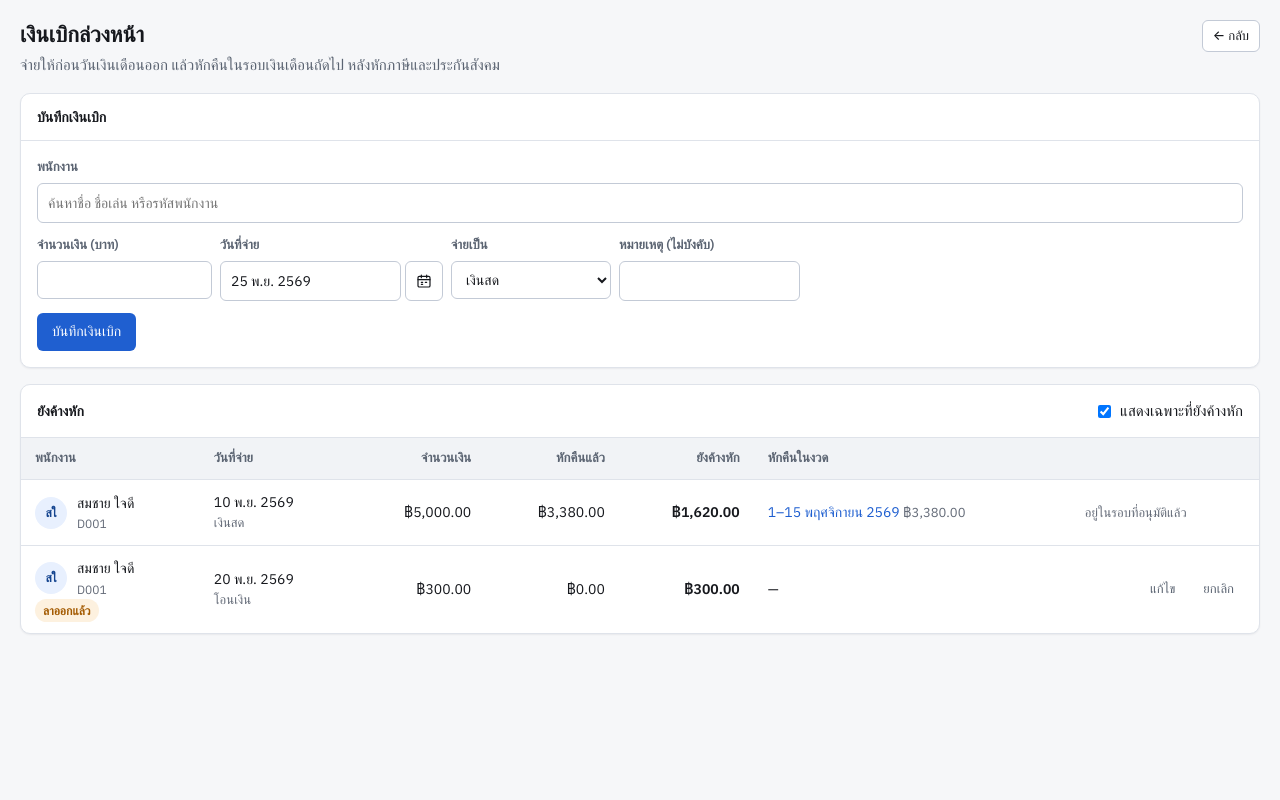
Scenario: Cash advances (CW-070) › records an advance for a person found by name
Type "สมชาย" into the search field with placeholder "ค้นหาชื่อ ชื่อเล่น หรือรหัสพนักงาน".
click(640, 203); type("สมชาย")  # box left=37, top=183, right=1243, bottom=223
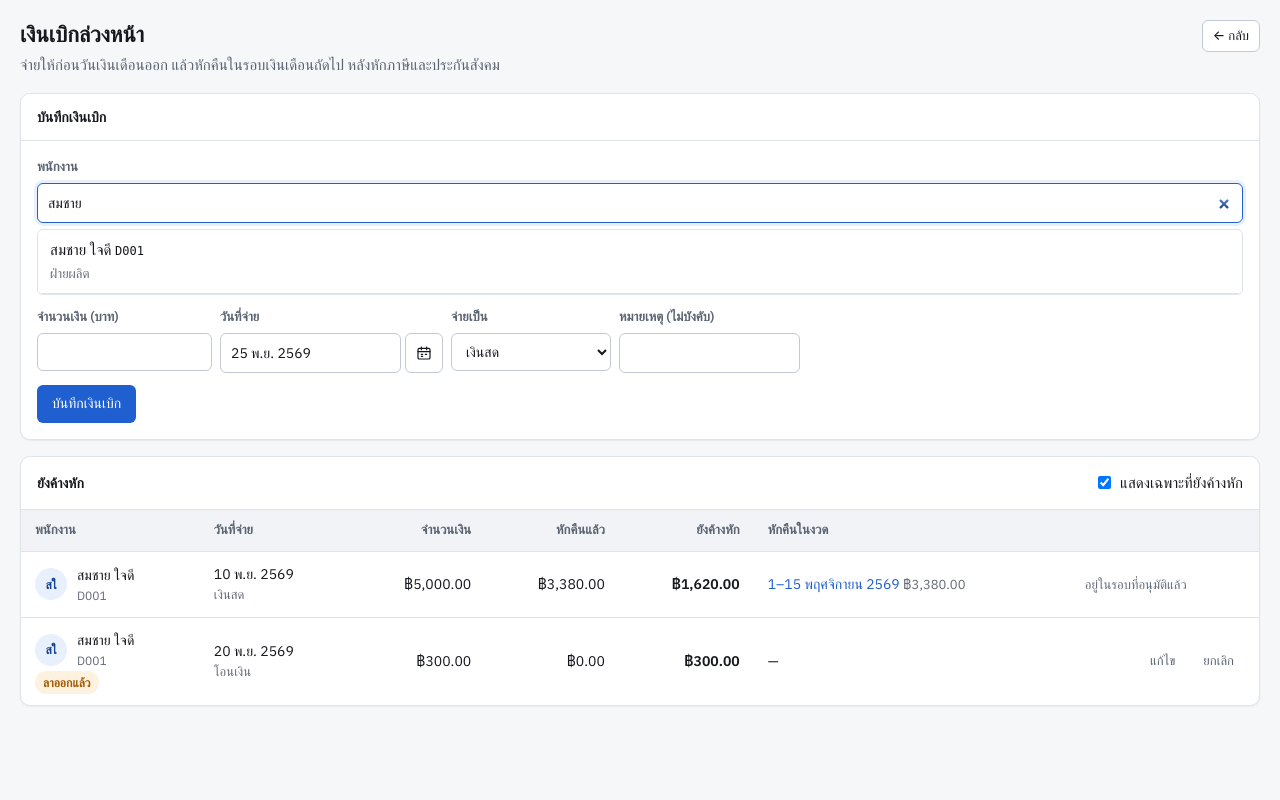
Click the button "สมชาย ใจดี D001 ฝ่ายผลิต".
click(68, 249)  # box left=38, top=230, right=1242, bottom=294
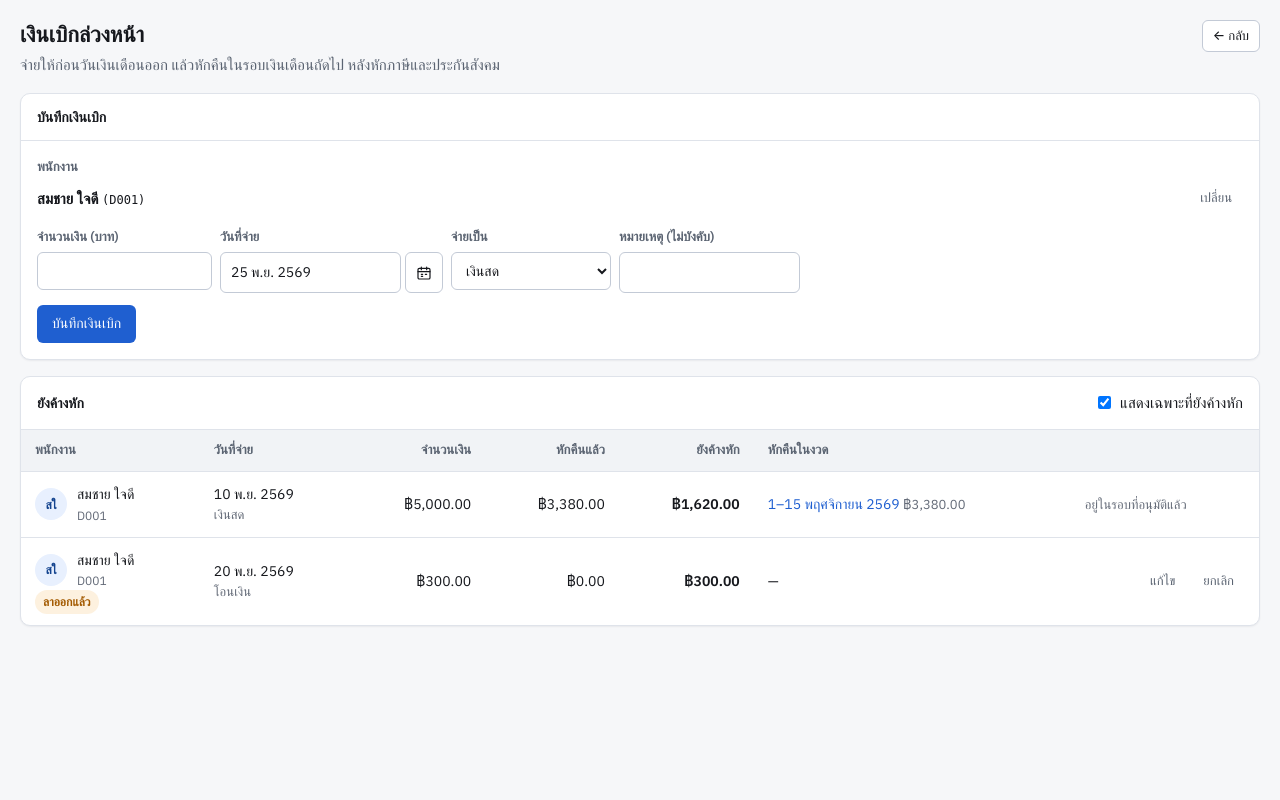
Type "500" into the field labelled "จำนวนเงิน (บาท)".
click(124, 271); type("500")  # box left=37, top=252, right=212, bottom=290
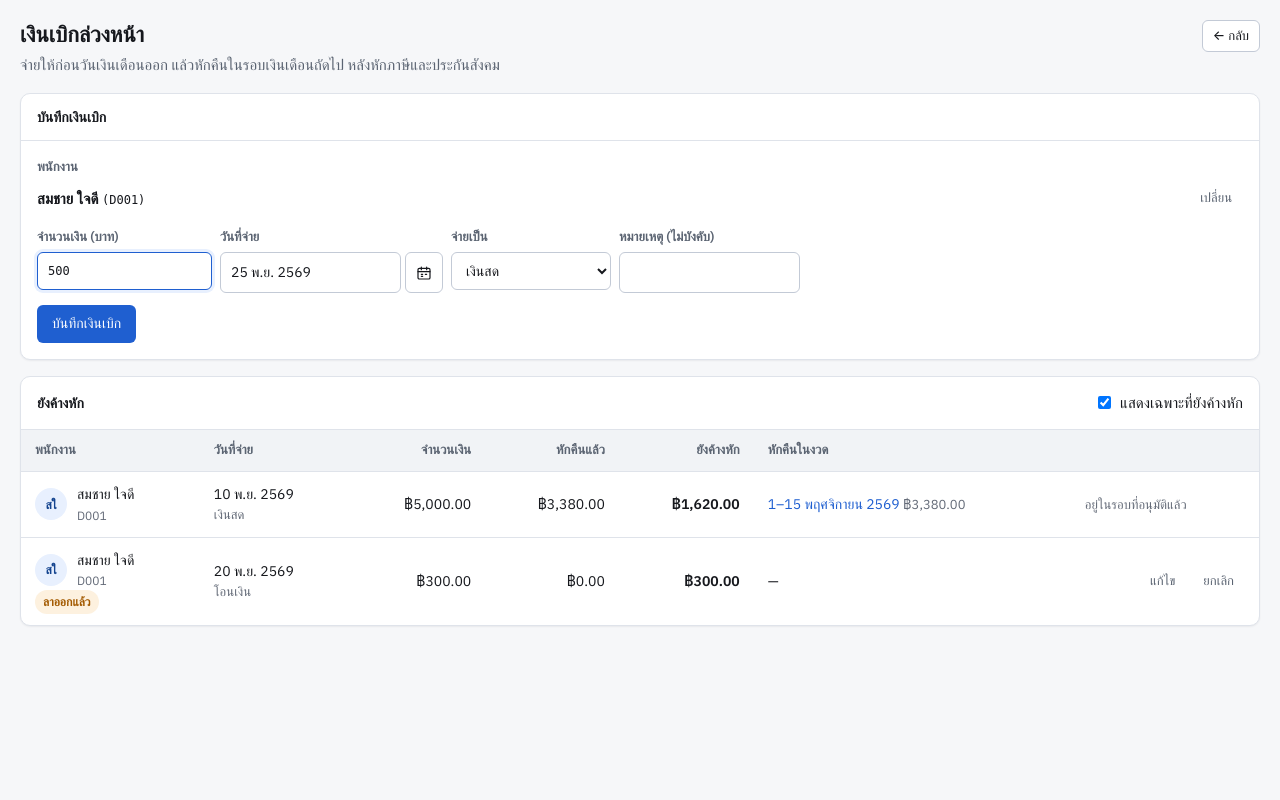
Click the button "บันทึกเงินเบิก".
click(87, 324)  # box left=37, top=305, right=136, bottom=343
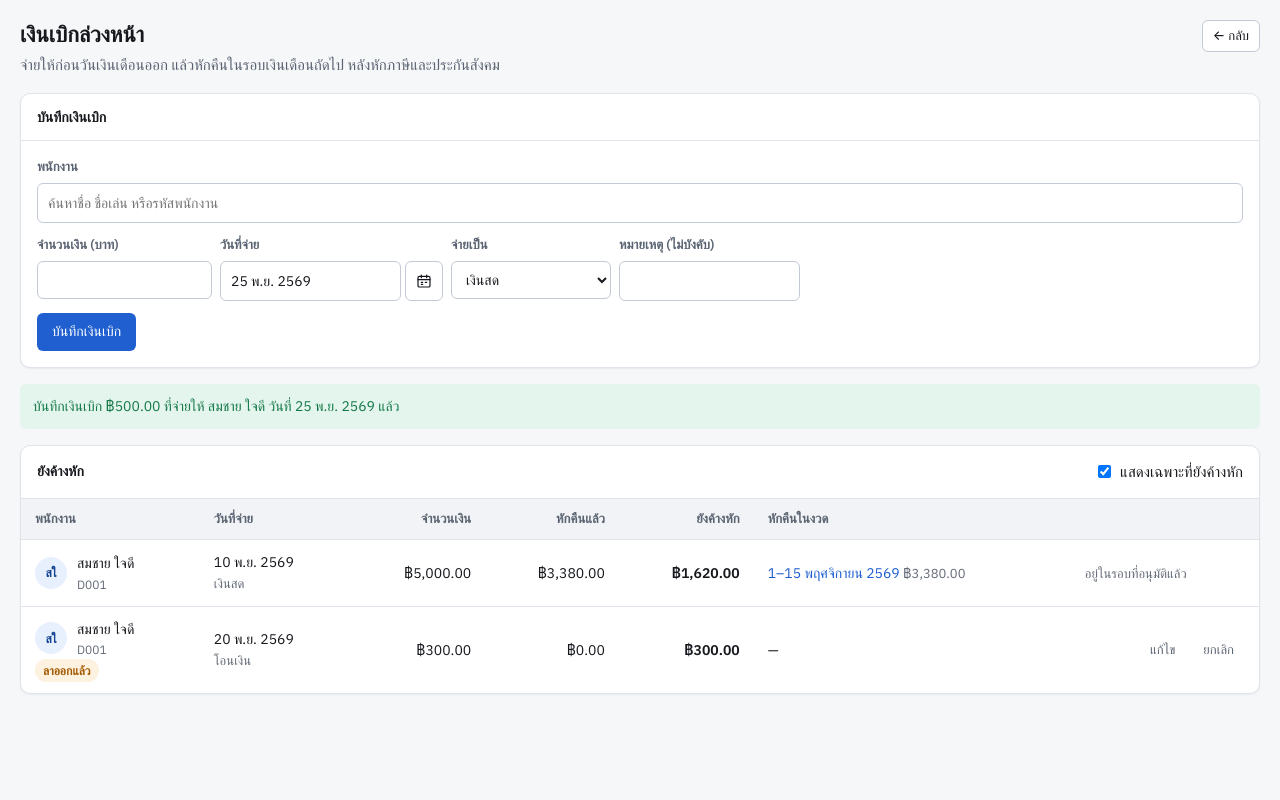
expect the message reads "บันทึกเงินเบิก ฿500.00 ที่จ่ายให้ สมชาย ใจดี วันที่ 25 พ.ย. 2569 แล้ว": met, box left=33, top=397, right=400, bottom=415
expect the search field with placeholder "ค้นหาชื่อ ชื่อเล่น หรือรหัสพนักงาน" is empty: met, box left=37, top=183, right=1243, bottom=223
expect the field labelled "จำนวนเงิน (บาท)" is empty: met, box left=37, top=261, right=212, bottom=299
